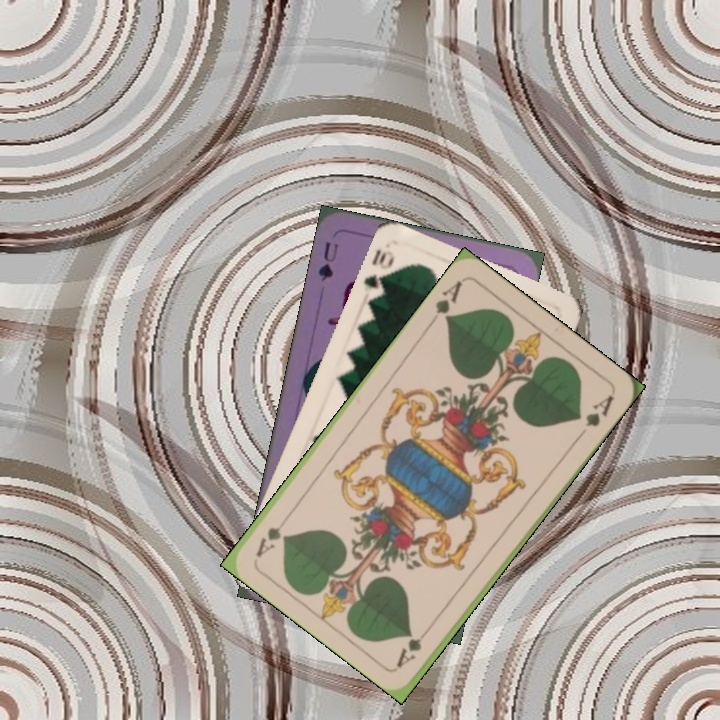G10: (360, 244, 397, 302)
GA: (392, 619, 436, 670), (425, 276, 465, 328)
GU: (314, 237, 341, 284)
